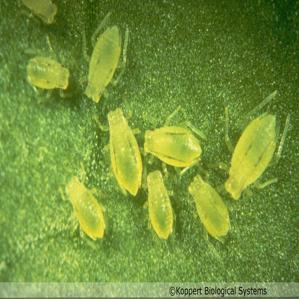Green peach aphid: (209, 85, 291, 202), (71, 21, 144, 104), (91, 105, 147, 196), (182, 174, 236, 259), (53, 176, 111, 248), (139, 118, 209, 175), (135, 170, 182, 250), (21, 41, 75, 107), (12, 0, 66, 31)
